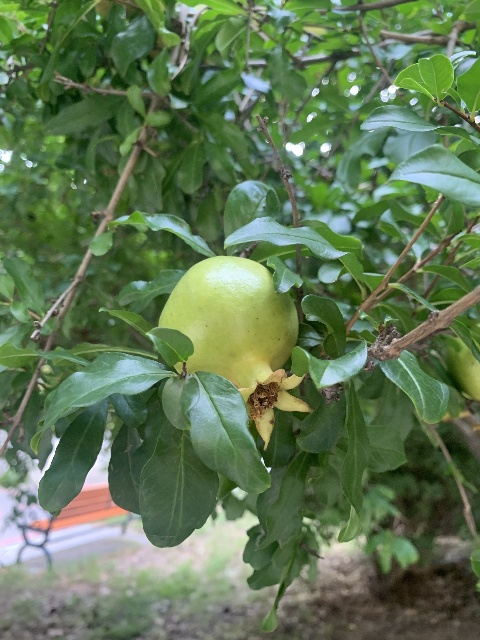mid-growth: (160, 254, 314, 450)
